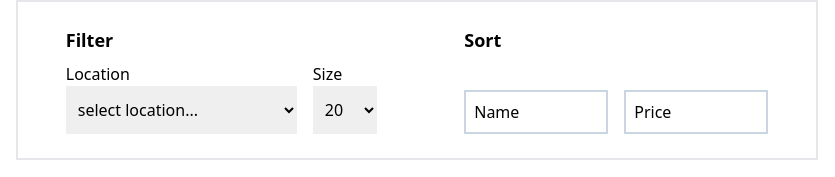
<Toolbar /> behaviour › should only update either price or name, not both
The image size is (835, 177).
Click the button with test id "toolbar-sortby-price": (696, 112) [624, 90, 768, 134]
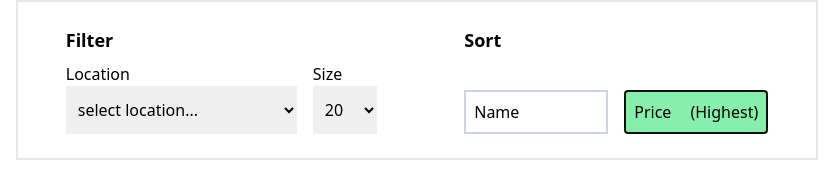
Expected: the text "(Highest)" is shown, [690, 100, 758, 124]
Click the button with test id "toolbar-sortby-name": (536, 112) [464, 90, 608, 134]
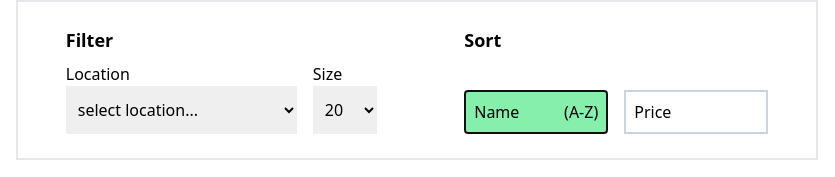
Expected: the text "(A-Z)" is shown, [564, 100, 598, 124]
Expected: the button "(Highest)" is gone
